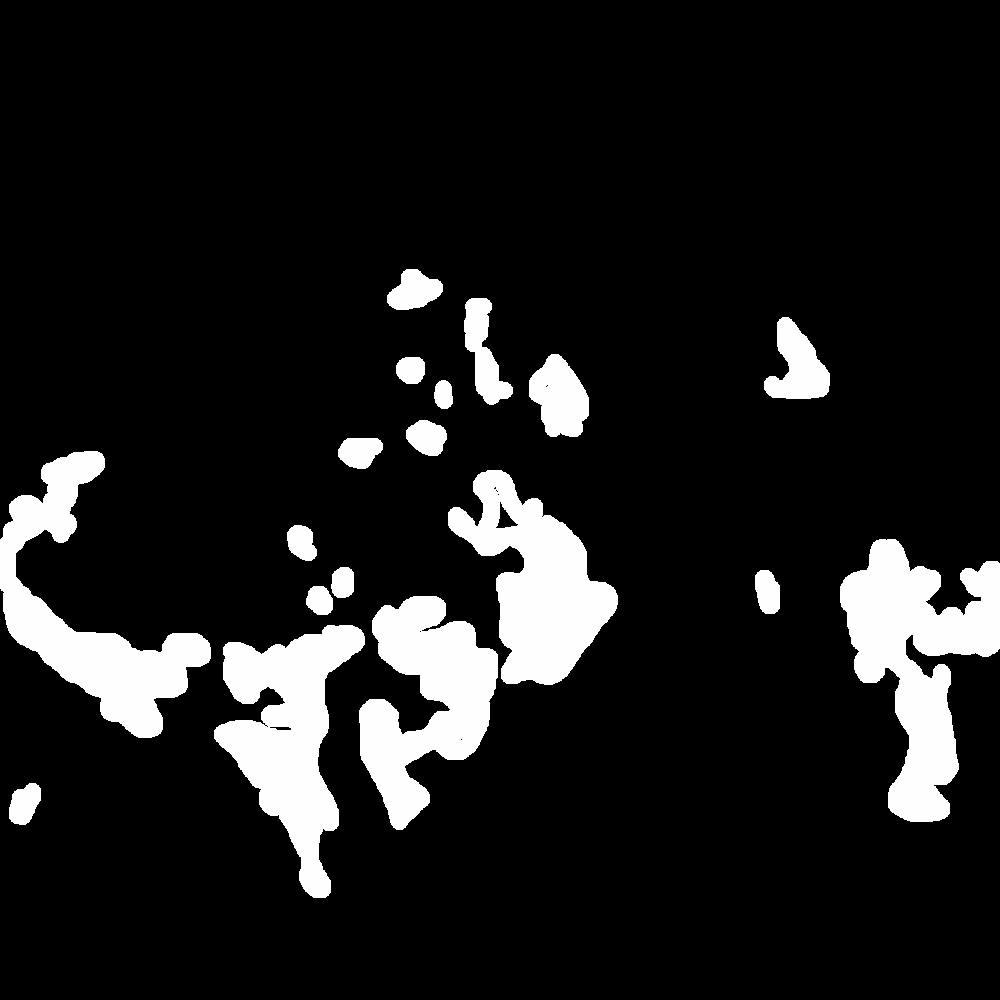illegal: (837, 515, 1000, 818), (212, 621, 367, 902), (456, 478, 628, 706), (367, 593, 504, 858), (1, 560, 202, 735), (1, 447, 105, 559), (469, 352, 592, 440), (758, 309, 828, 403), (306, 569, 356, 616), (1, 771, 36, 838), (393, 267, 439, 309), (402, 423, 444, 459), (337, 437, 383, 468), (459, 303, 488, 347), (750, 574, 781, 612), (285, 525, 312, 558), (395, 358, 422, 383)
